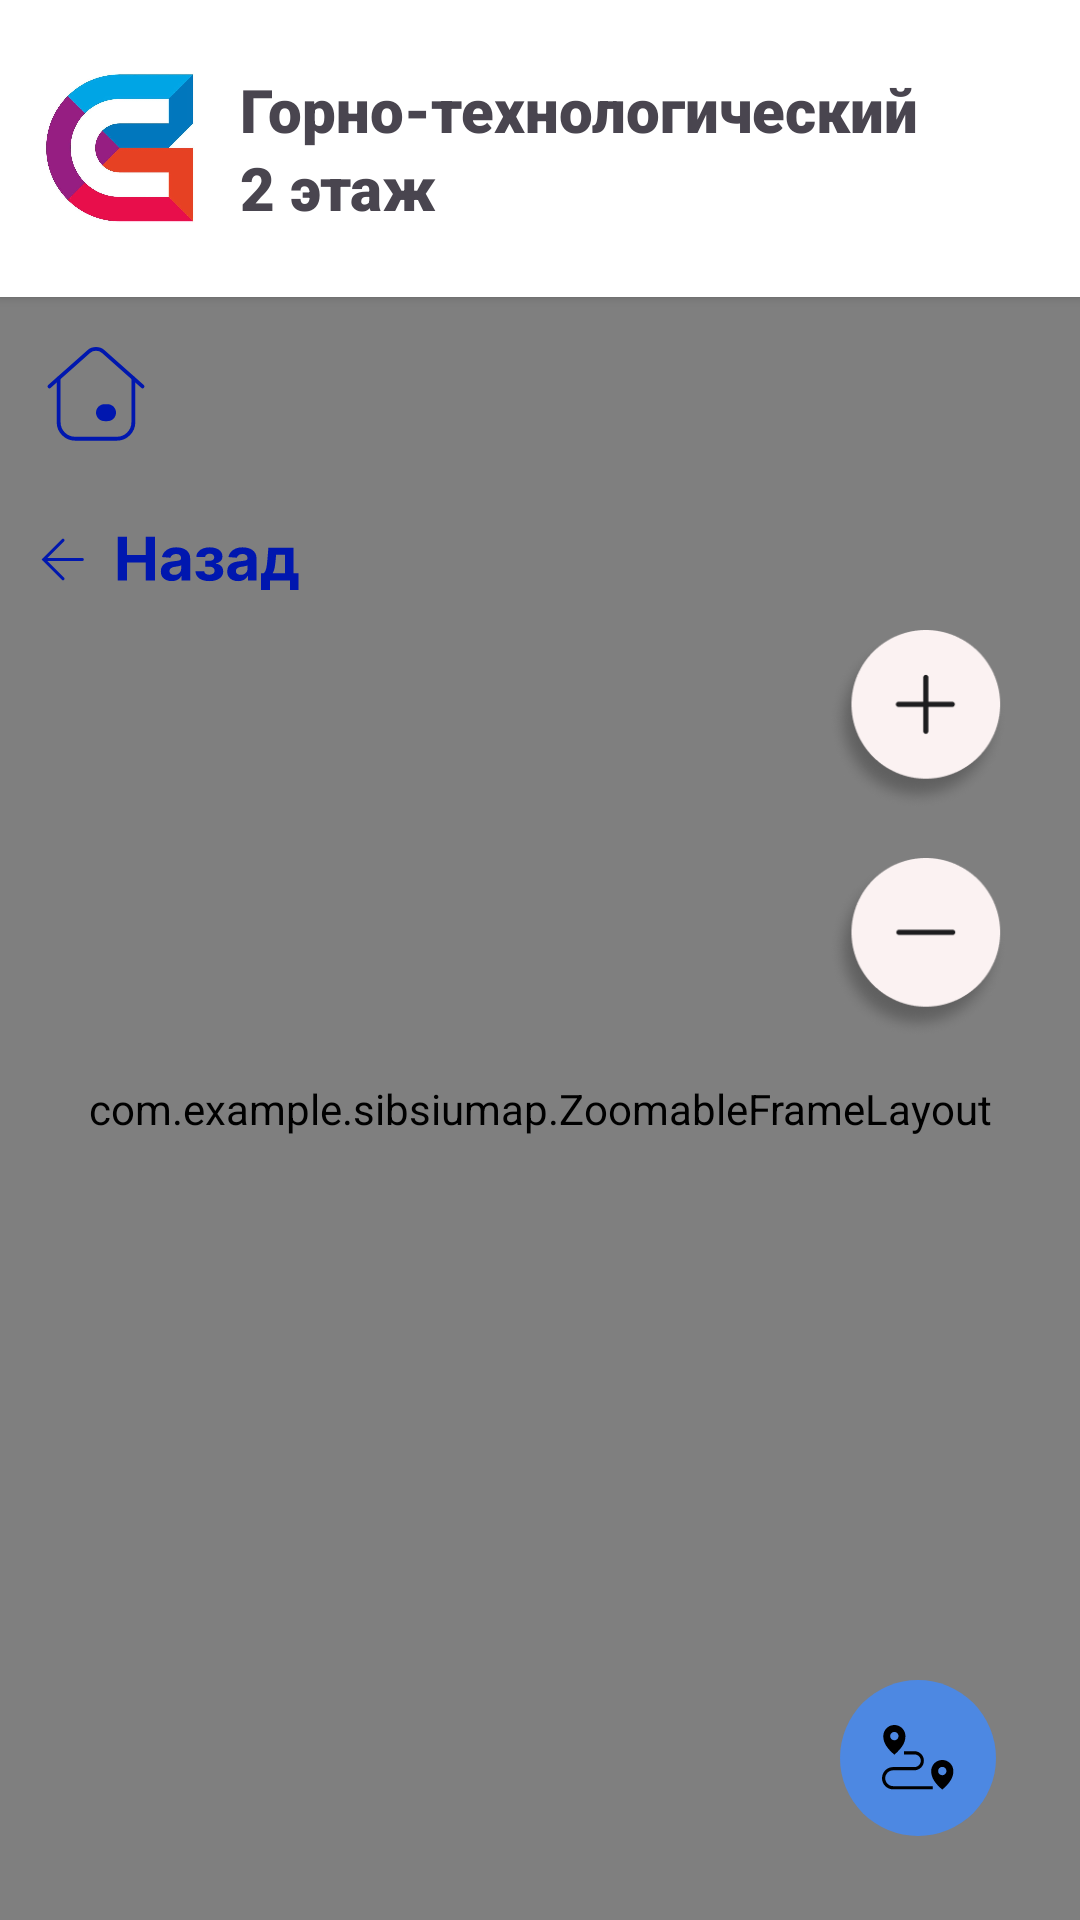

Screen size 1080×1920. Icon name, then its box in pixels as [left=x1, top=y1, right=x2, bottom=y2]:
home: [left=47, top=347, right=145, bottom=441]
minus: [left=849, top=858, right=1000, bottom=1017]
plus: [left=849, top=630, right=1000, bottom=789]
route: [left=840, top=1680, right=996, bottom=1836]
